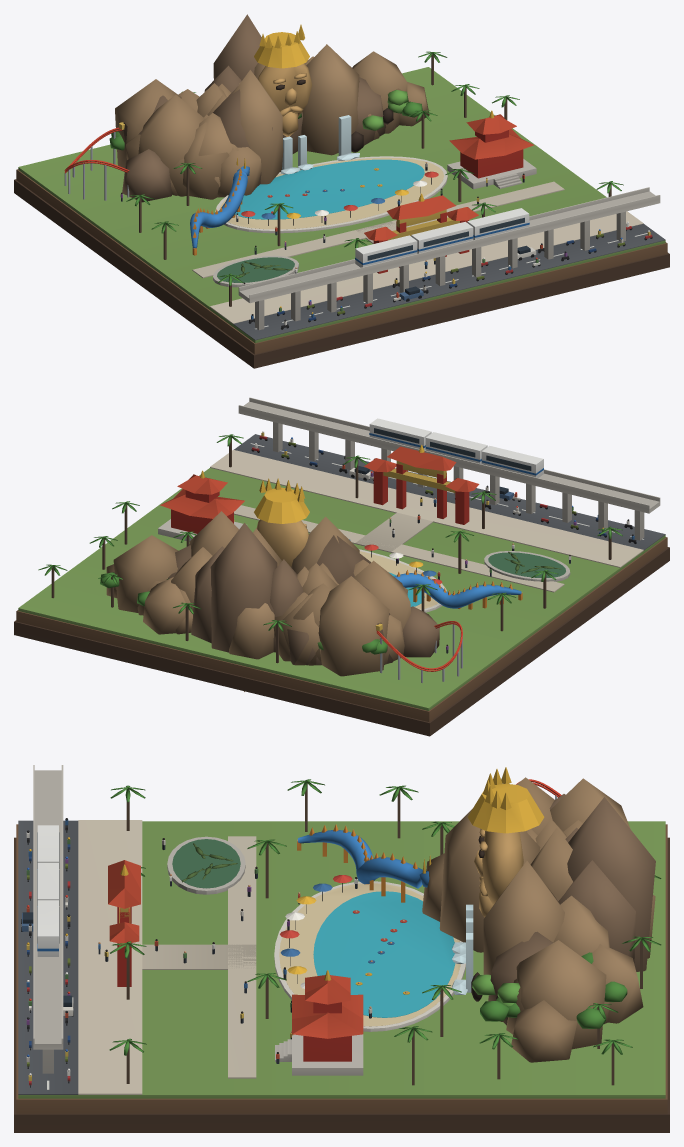
The model's file is suoi-tien.glb.
The picture shows the model from 3 angles, top to bottom: view 1: azimuth 30°, elevation 25°; view 2: azimuth 150°, elevation 25°; view 3: azimuth 270°, elevation 25°; orthographic projection. The views are drawn at different scales.
Visible parts, largest first — view 1: ST_park_concrete; view 2: ST_park_concrete; view 3: ST_park_concrete.
Part boxes in pixels (x1,y1,x2,y2): ST_park_concrete: (14, 14, 669, 368); ST_park_concrete: (14, 397, 669, 736); ST_park_concrete: (14, 765, 669, 1132).
Bounding box in the file's own units: 92 × 38.36 × 92.
Materials: 1 (1 with a texture image).
